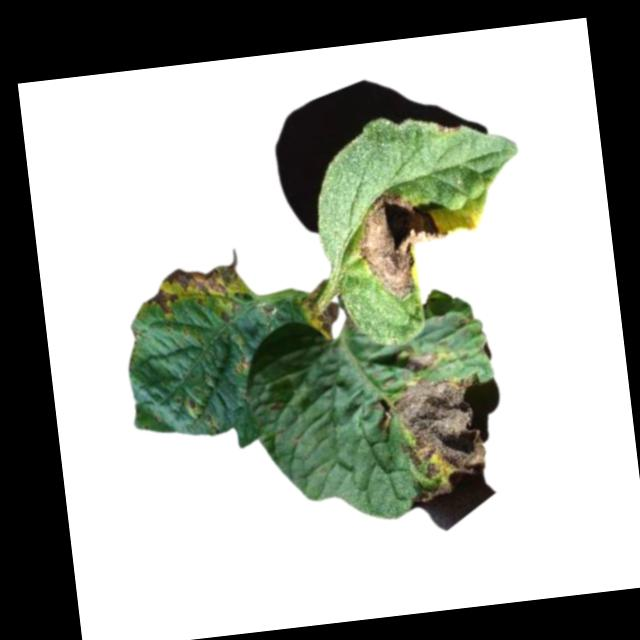Early_blight: (371, 375, 497, 510), (353, 186, 456, 304), (142, 261, 258, 320), (304, 284, 344, 343), (405, 351, 443, 373)
